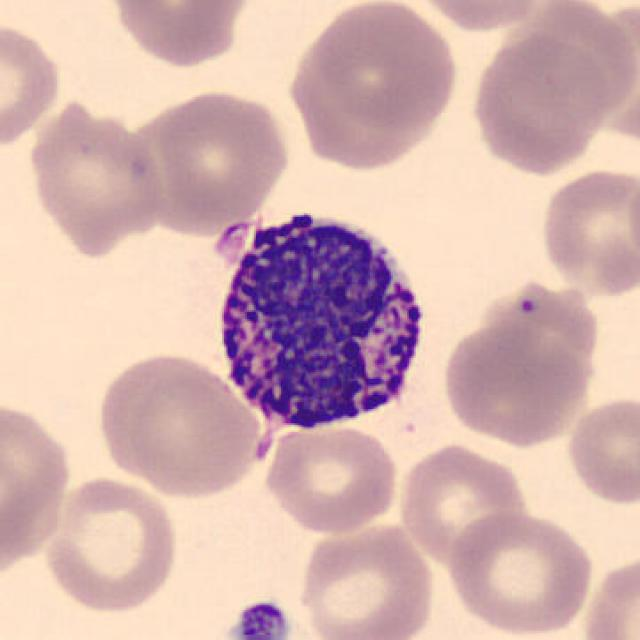Basophil: (206, 194, 439, 446)
Platelets: (225, 597, 293, 640)
RBC: (91, 347, 270, 499), (134, 84, 294, 234), (23, 95, 167, 258), (437, 307, 599, 448), (466, 27, 615, 176), (302, 0, 460, 136), (278, 35, 435, 169), (41, 472, 181, 616), (443, 508, 597, 638), (295, 518, 437, 640), (394, 441, 532, 566), (261, 421, 402, 536), (510, 0, 637, 127), (535, 164, 638, 301), (0, 392, 75, 572), (105, 0, 254, 69), (0, 14, 66, 153), (562, 393, 638, 508), (579, 548, 640, 639), (407, 0, 560, 35)
